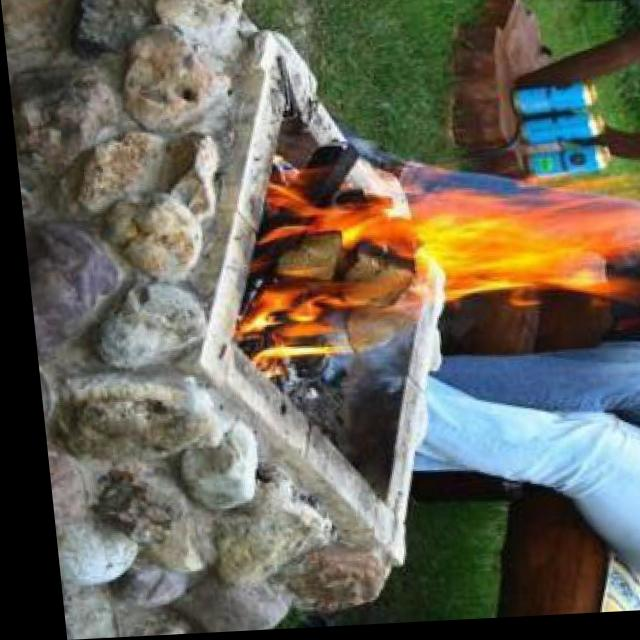Fire: (215, 163, 640, 375)
